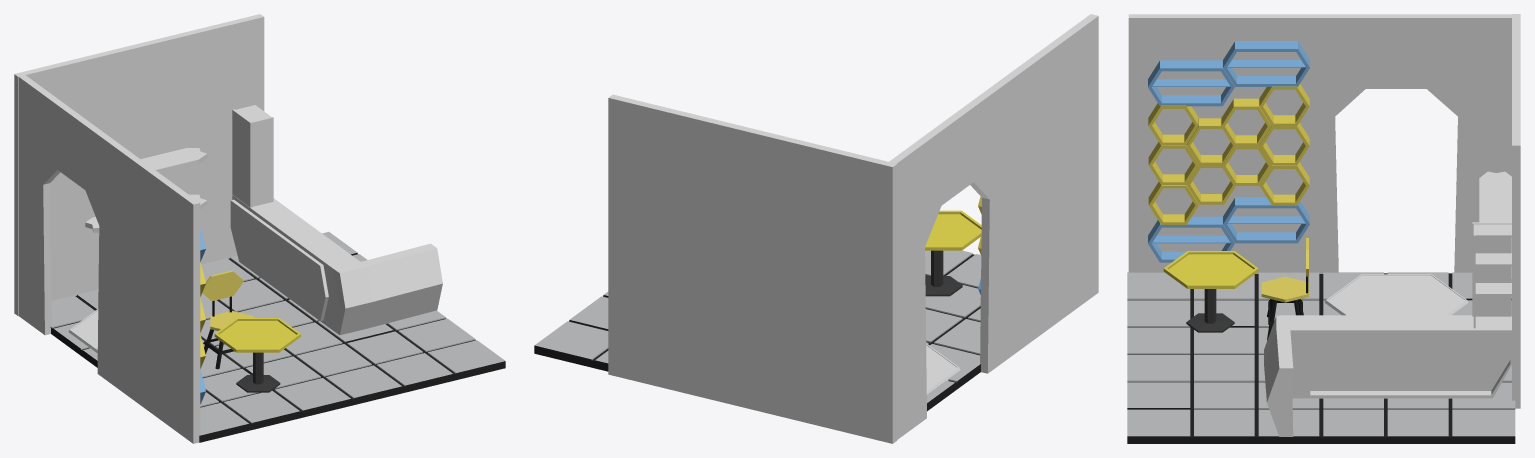
The model's file is shop_scene1.fbx.
The picture shows the model from 3 angles, left to right: view 1: azimuth 30°, elevation 25°; view 2: azimuth 150°, elevation 25°; view 3: azimuth 270°, elevation 25°; orthographic projection. The views are drawn at different scales.
Parts seen in each view (by area): view 1: Cube.003, Cube.001, Cube, Cube.004, Cube.011, Cylinder.012, Cylinder.003, Cylinder.045, Cylinder.019, Cylinder.043; view 2: Cube.001, Cube.003, Cube, Cylinder.012, Cylinder.045, Cylinder.043; view 3: Cube.003, Cube, Cube.004, Cylinder.002, Cylinder.043, Cube.011, Cube.001, Cylinder.012, Cylinder.008, Cylinder.015, Cylinder.007, Cylinder (+4 smaller).
Part boxes in pixels (x1,y1,x2,y2): Cube.003: (18, 75, 200, 443); Cube.001: (14, 14, 264, 316); Cube: (50, 232, 505, 442); Cube.004: (230, 195, 442, 335); Cube.011: (232, 105, 273, 207); Cylinder.012: (214, 318, 300, 352); Cylinder.003: (85, 148, 207, 232); Cylinder.045: (236, 352, 280, 392); Cylinder.019: (202, 270, 243, 301); Cylinder.043: (68, 309, 98, 352); Cube.001: (608, 94, 897, 443); Cube.003: (889, 14, 1098, 439); Cube: (534, 250, 981, 411); Cylinder.012: (925, 210, 981, 250); Cylinder.045: (925, 250, 962, 296); Cylinder.043: (926, 343, 960, 394); Cube.003: (1128, 14, 1511, 273); Cube: (1127, 272, 1515, 443); Cube.004: (1264, 315, 1511, 436); Cylinder.002: (1148, 84, 1309, 224); Cylinder.043: (1324, 274, 1468, 315); Cube.011: (1472, 222, 1511, 328); Cube.001: (1512, 14, 1520, 408); Cylinder.012: (1163, 251, 1258, 288); Cylinder.008: (1148, 60, 1234, 106); Cylinder.015: (1223, 41, 1309, 86); Cylinder.007: (1223, 197, 1309, 243); Cylinder: (1148, 216, 1234, 262).
Bounding box in the file's own units: 205 × 149 × 203.
